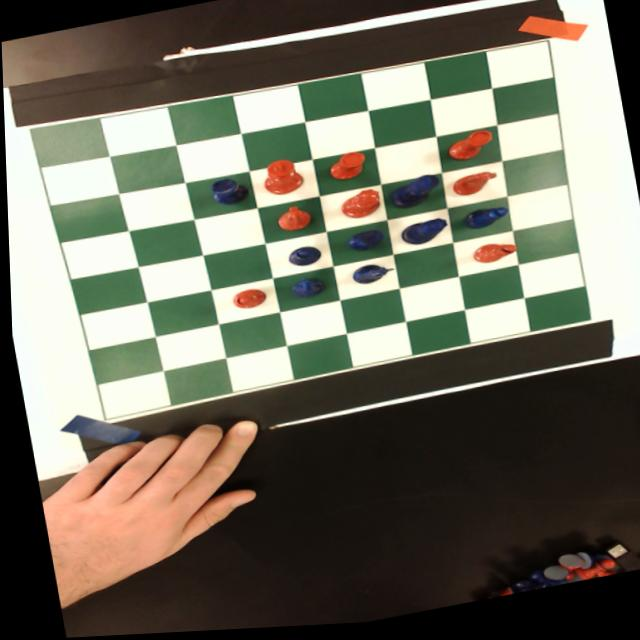B: (455, 208, 511, 238), (282, 246, 321, 273)
K: (381, 176, 444, 217)
N: (345, 264, 393, 292), (285, 275, 327, 306)
Q: (394, 220, 448, 253)
R: (205, 177, 250, 211), (340, 230, 386, 259)
b: (467, 244, 517, 271), (227, 289, 266, 315)
k: (254, 159, 307, 203)
n: (448, 174, 500, 204), (270, 206, 314, 238)
q: (335, 190, 382, 226)
r: (441, 132, 495, 169), (324, 153, 368, 187)
